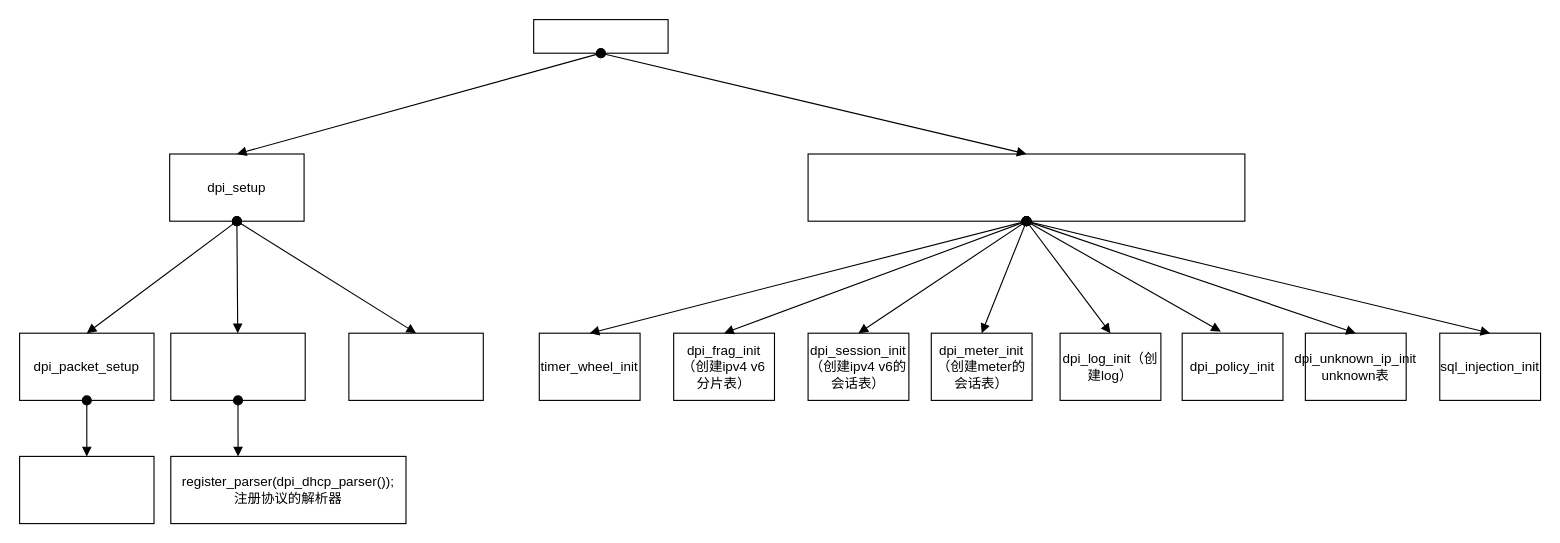
Some shapes in this 1560 by 543 pixel diagram are drawn without their labels. Each missing label, with the centre of its shape:
BITMASK_SET(ddos): the point at 86,489
dpi_dlp_init(数据防泄露): the point at 415,366
dpi_init: the point at 1026,187
dpi_parser_setup: the point at 237,366
main: the point at 600,35
